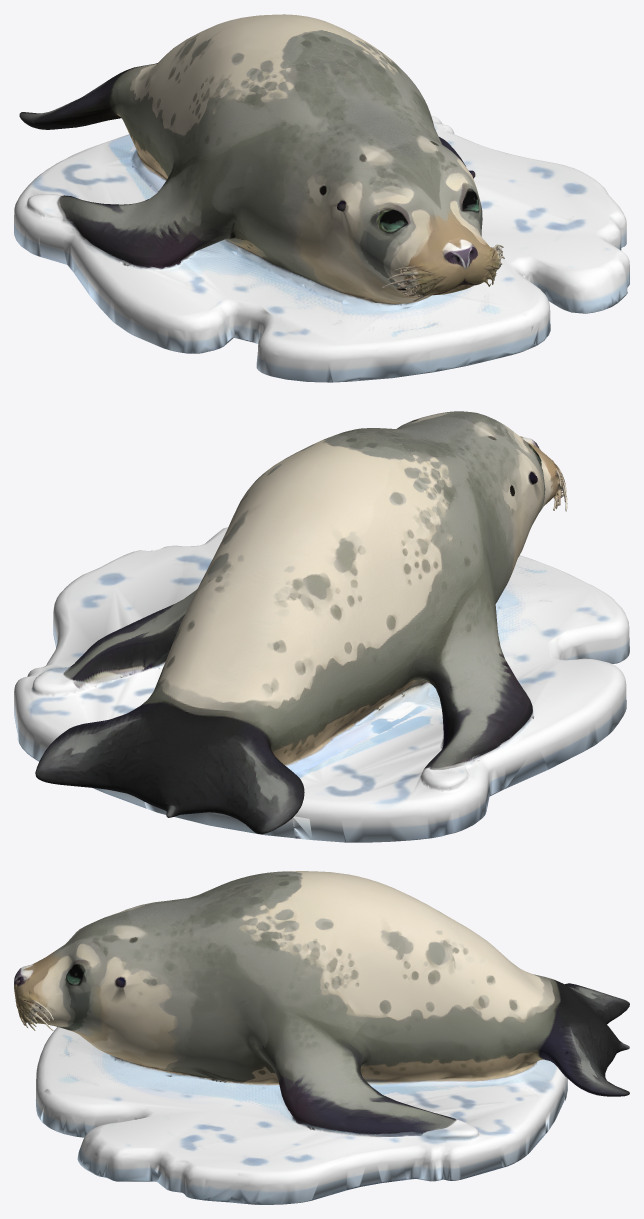
The model's file is ringed_seal.glb.
3 renders of one model, top to bottom at view 1: azimuth 30°, elevation 25°; view 2: azimuth 150°, elevation 25°; view 3: azimuth 270°, elevation 25°, orthographic. The views are drawn at different scales.
Size of the model in its own units: 1.54 by 0.7023 by 1.9.
1 material, 1 textured.
